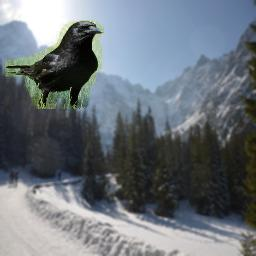Crow: (5, 20, 104, 109)
